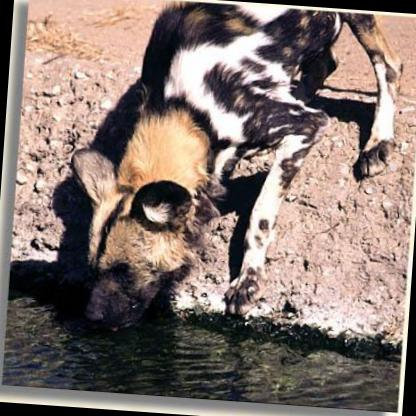African_hunting_dog: (56, 0, 407, 354)
